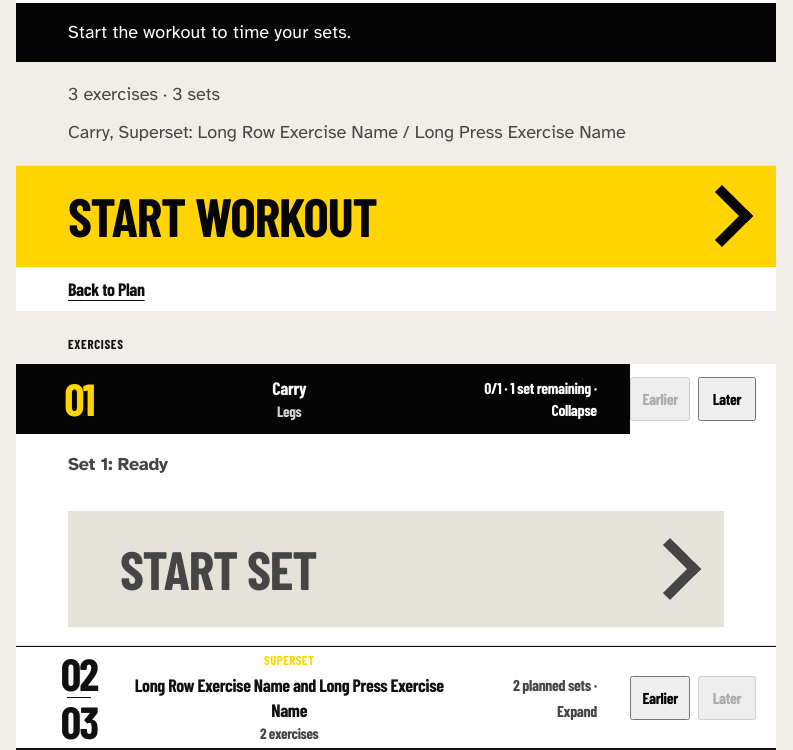
Scenario: renders a pre-start superset as a collapsed summary with separate shared order and disclosure controls
(page scrolled)
expect the text "02" is shown: met, box 61,651 -> 97,696
expect the text "03" is shown: met, box 61,699 -> 97,744
What coordinates should you click on to do the following:
click the button with aria-label "Superset: Long Row Exercise Name and Long Press Exercise Nam"
I would click on:
 (323, 698)
Its box is 16,647 -> 630,748.
(page scrolled)
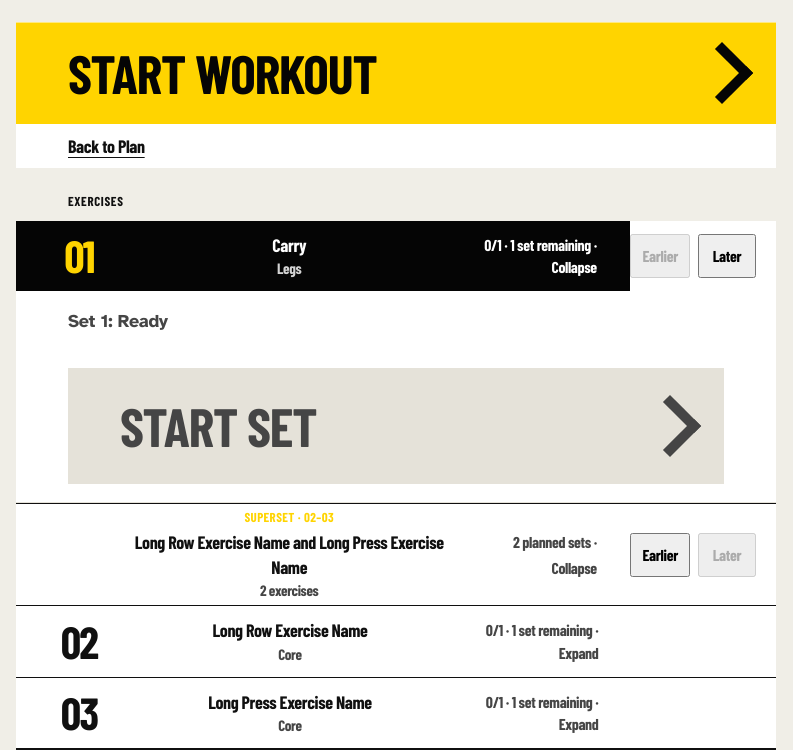
expect the button with aria-label "Superset: Long Row Exercise Name and Long Press Exercise Nam" is expanded: met, box 16,504 -> 630,605
expect the text "SUPERSET · 02–03" is shown: met, box 244,509 -> 334,525
expect the element with class "exercise-status" reads "2 planned sets · Collapse": met, box 513,532 -> 597,577
